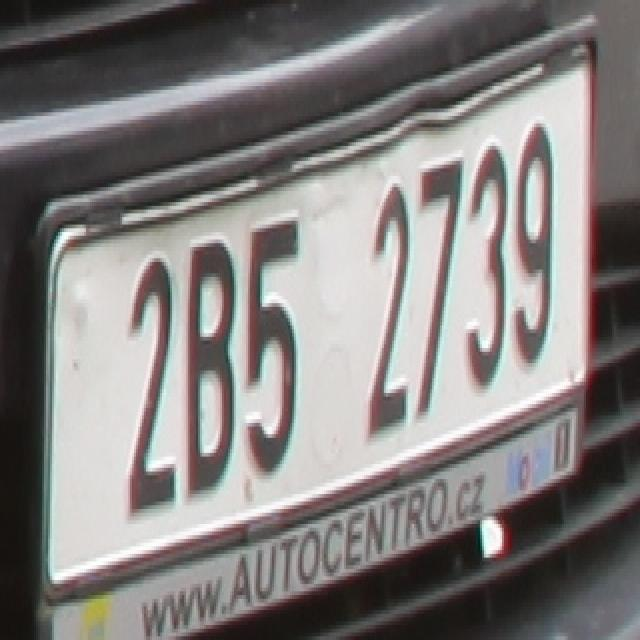2: (122, 243, 176, 513), (364, 176, 410, 434)
3: (468, 138, 508, 393)
5: (246, 210, 304, 490), (418, 146, 464, 427)
9: (510, 116, 556, 374)
B: (184, 232, 238, 502)
